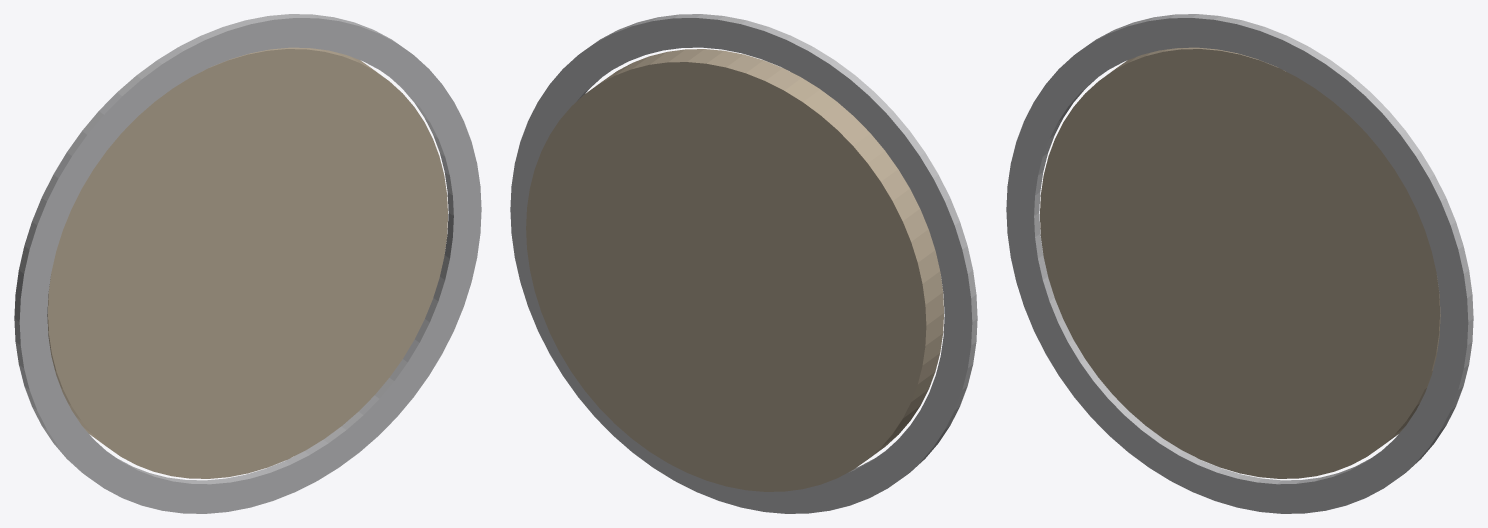
File: app-oak.glb
3 views of the same model, side by side, from view 1: azimuth 30°, elevation 25°; view 2: azimuth 150°, elevation 25°; view 3: azimuth 330°, elevation 25° (orthographic).
Visible parts, largest first — view 1: app_oak, ring; view 2: app_oak, ring; view 3: app_oak, ring.
Boxes of the visible parts, <box> form: app_oak: <box>47,47,447,478</box>; ring: <box>14,14,481,513</box>; app_oak: <box>526,49,943,491</box>; ring: <box>510,14,977,513</box>; app_oak: <box>1040,47,1440,478</box>; ring: <box>1006,14,1473,513</box>.
Bounding box in the file's own units: 0.15 × 0.15 × 0.0115.
